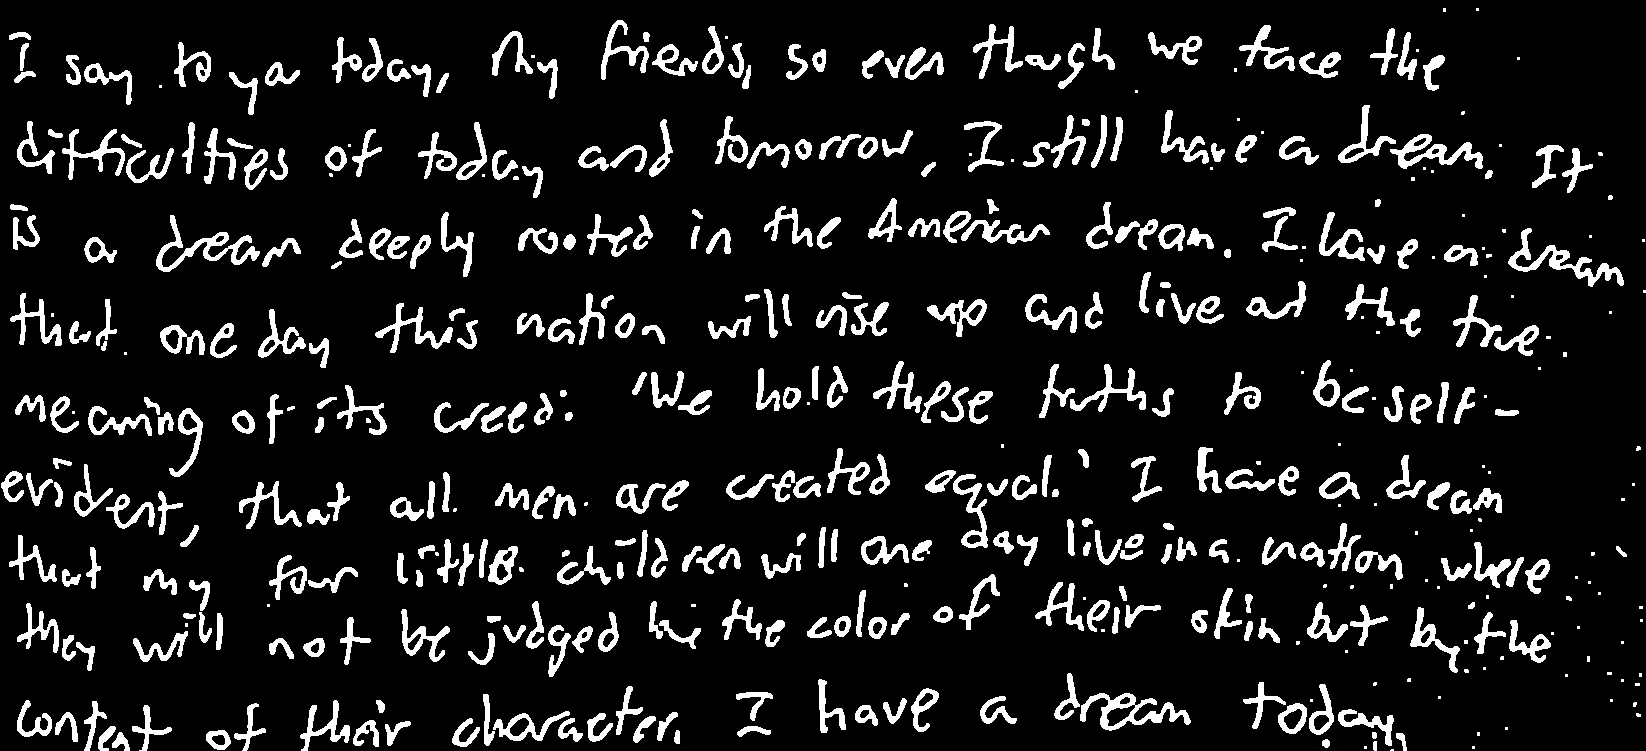I say to you today, my friends, so even though we face the difficulties of today: (0, 0, 1646, 751)
